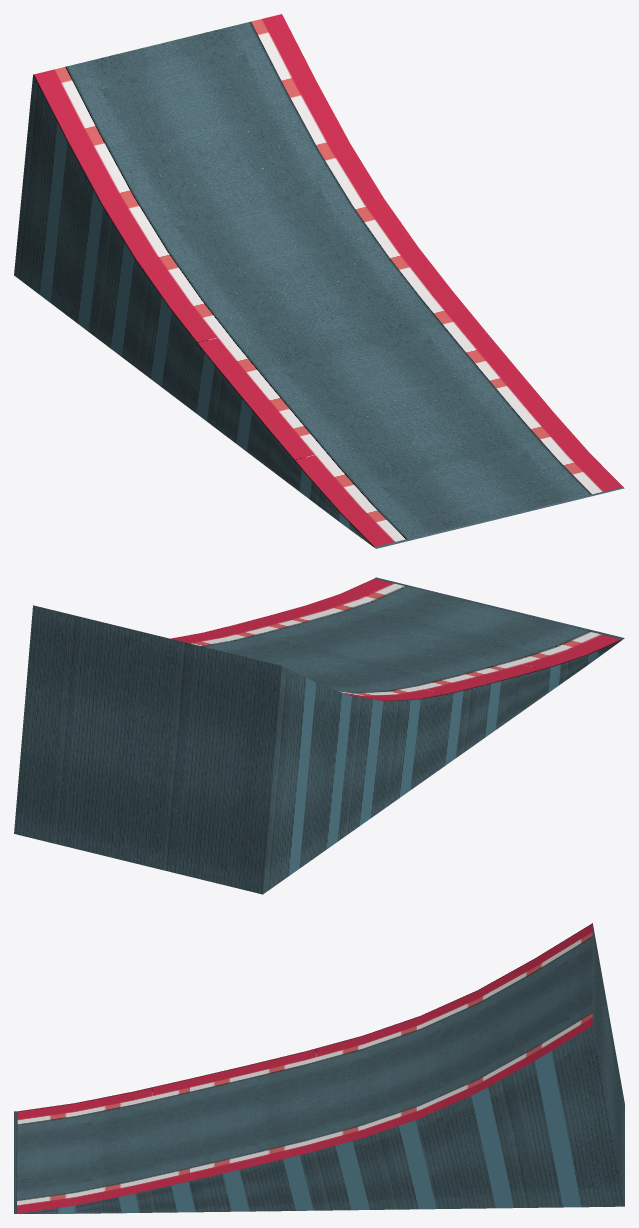
File: R_STUNT.FBX
3 views of the same model, one above another, from view 1: azimuth 30°, elevation 25°; view 2: azimuth 150°, elevation 25°; view 3: azimuth 270°, elevation 25° (orthographic). The views are drawn at different scales.
Parts seen in each view (by area): view 1: Box008; view 2: Box008; view 3: Box008.
Part boxes in pixels (box(x1,y1,x2,y2)): Box008: box(14, 14, 624, 548); Box008: box(14, 577, 624, 894); Box008: box(14, 923, 624, 1213).
Bounding box in the file's own units: 405 × 347 × 1021.
